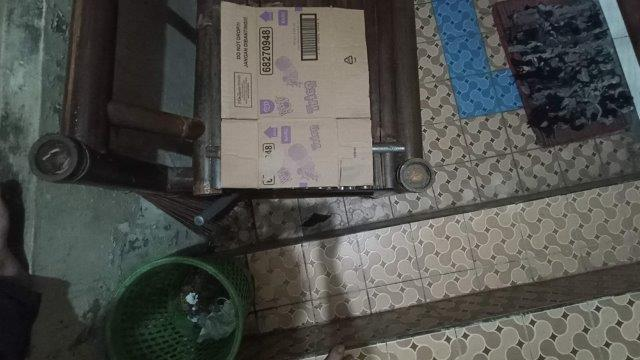kardus: (221, 1, 373, 186)
